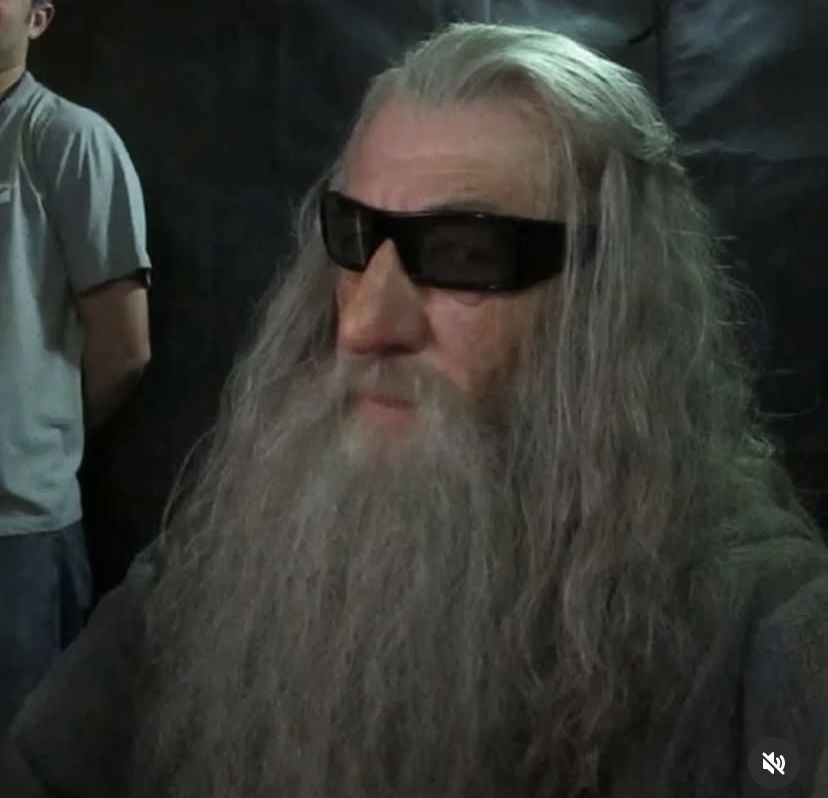gandalf grey: (253, 16, 789, 787)
